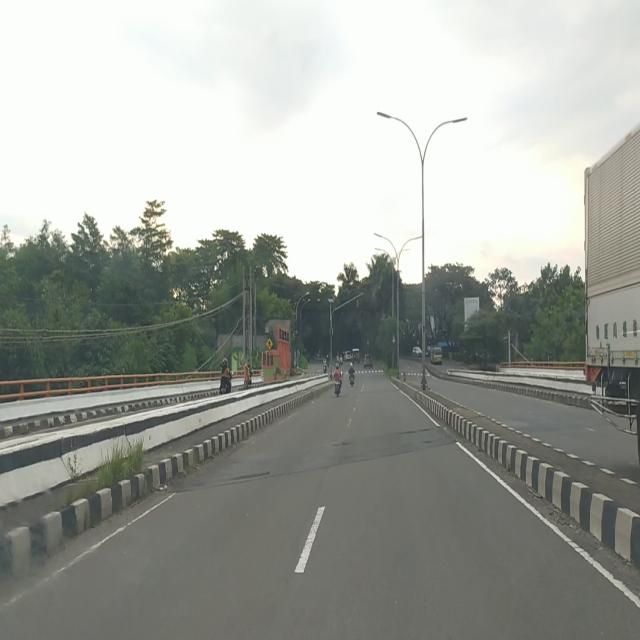Sewer Cover: (336, 428, 434, 446), (202, 469, 275, 487)
